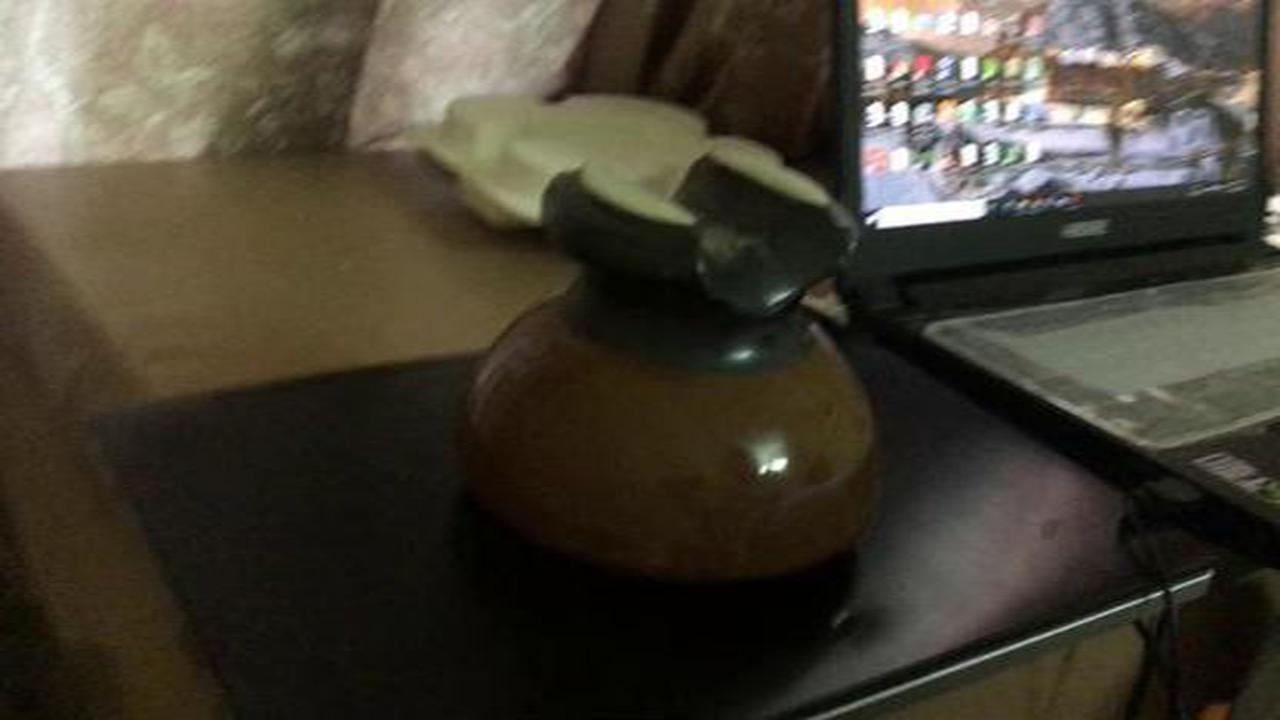insulator_pin: (437, 137, 902, 610)
